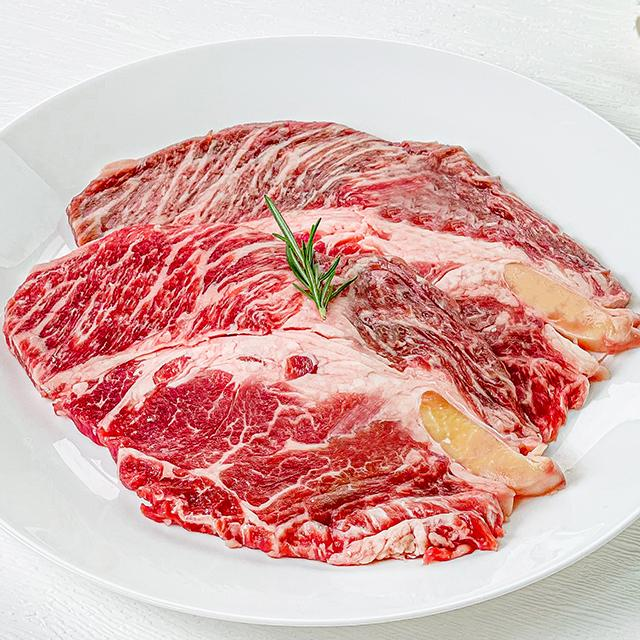beef: (116, 200, 290, 484), (378, 237, 543, 483)
